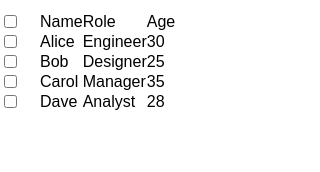
it: Table › Selectable › deselects all rows when clicking select-all again
The image size is (320, 172).
Click the checkbox named "Select all rows": (10, 22) x1=4 y1=15 x2=17 y2=28
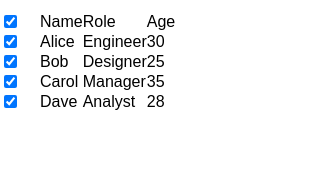
Click the checkbox named "Select all rows": (10, 22) x1=4 y1=15 x2=17 y2=28
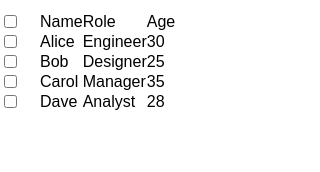
Expected: the checkbox named "Select row 1" is not checked, x1=4 y1=35 x2=17 y2=48
